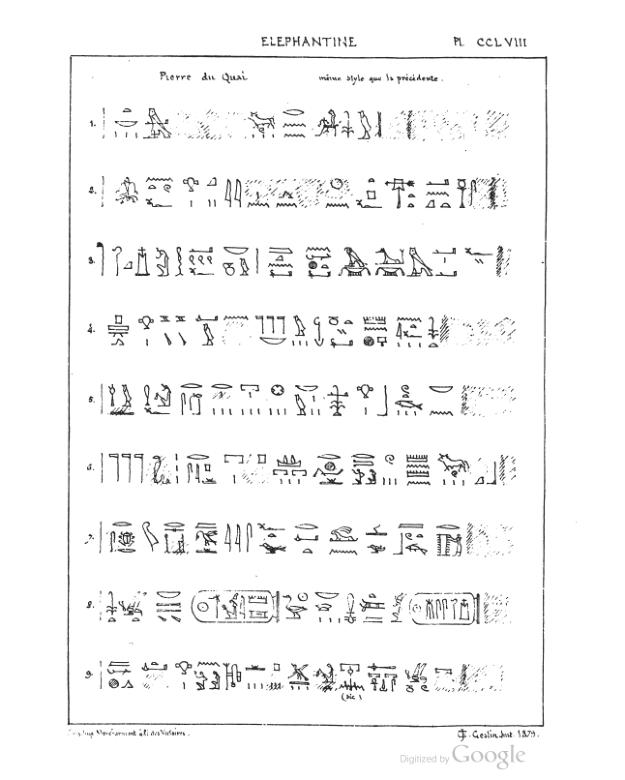circle: (190, 585, 282, 630), (408, 591, 484, 627)
